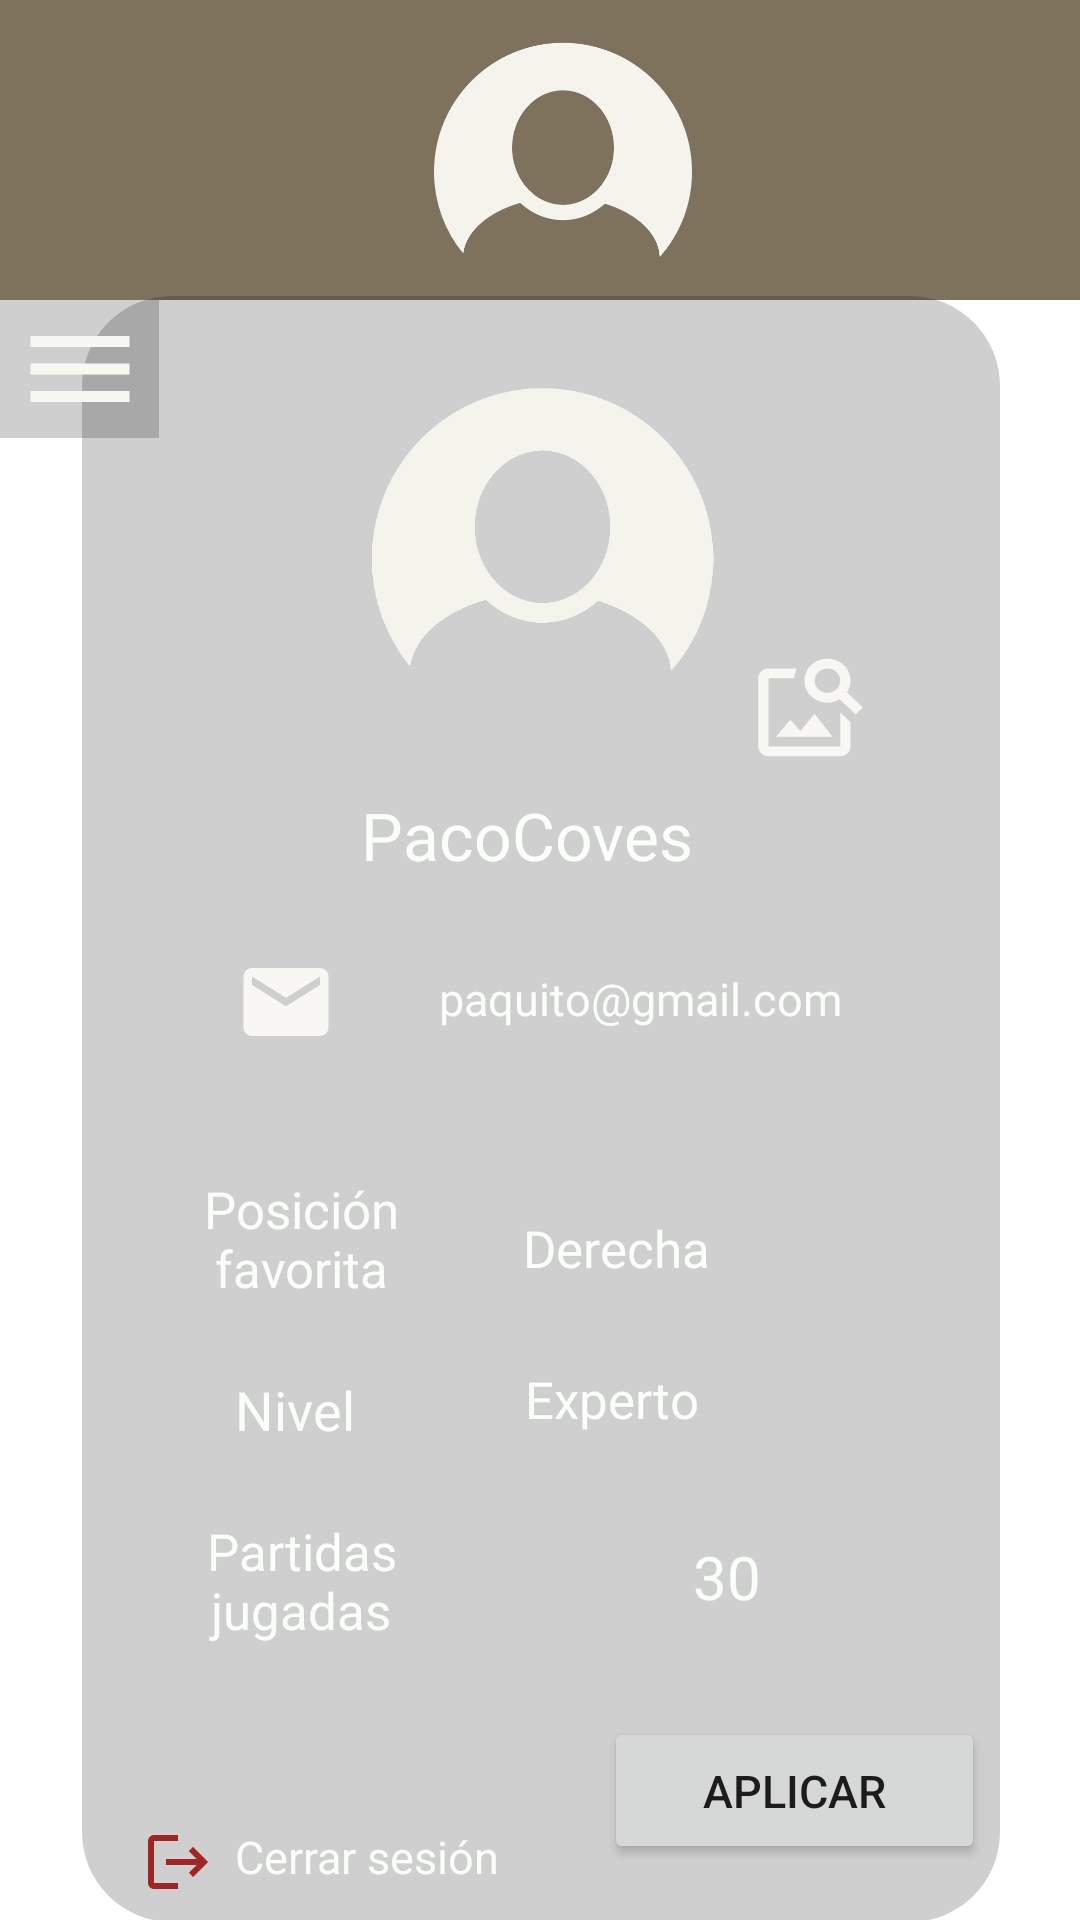

Where to tap for icons on this 1080 × 1920 app screen, as [x,y]:
Open menu: [79,369]
user: [563,150], [543,529]
